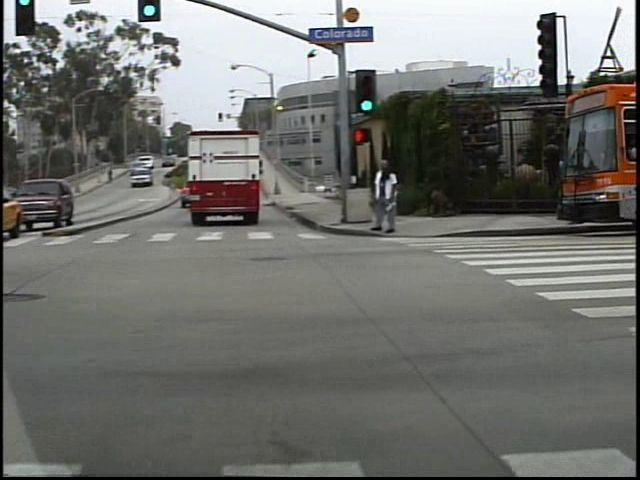person: (375, 157, 405, 238)
